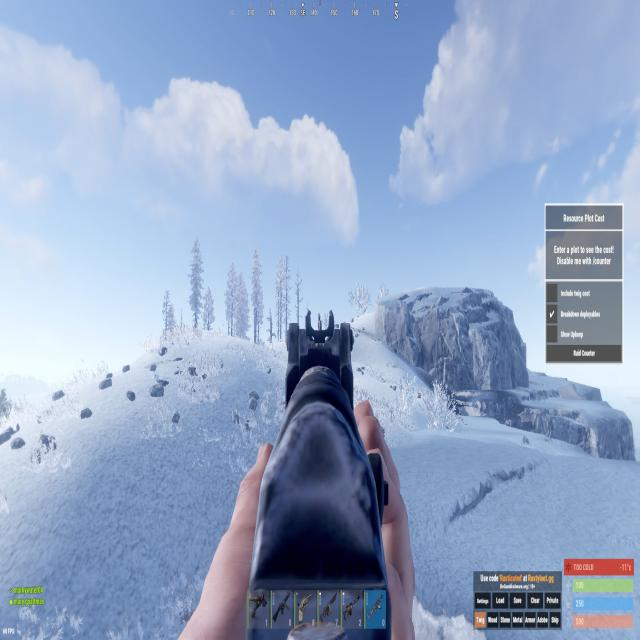Player: (318, 313, 322, 330)
